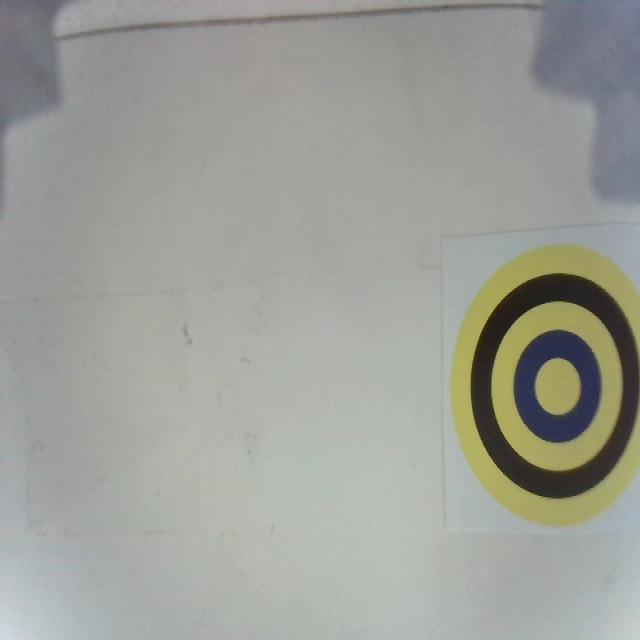cogn: (449, 242, 640, 525)
